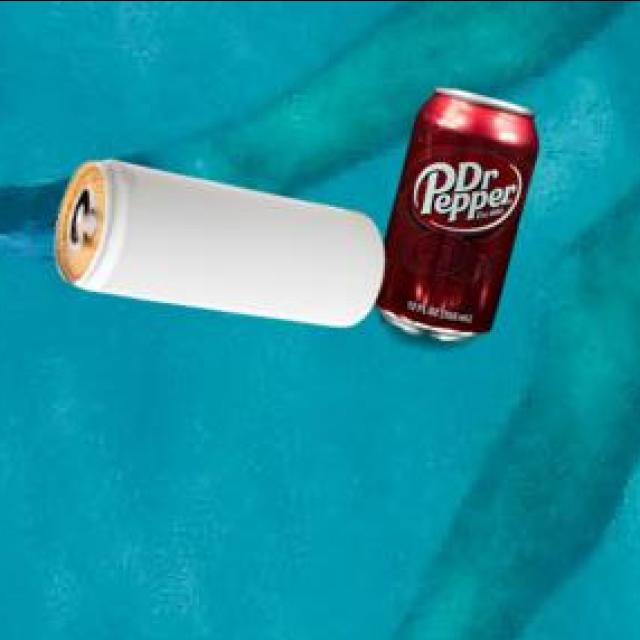logam: (53, 162, 382, 328), (370, 88, 534, 343)
